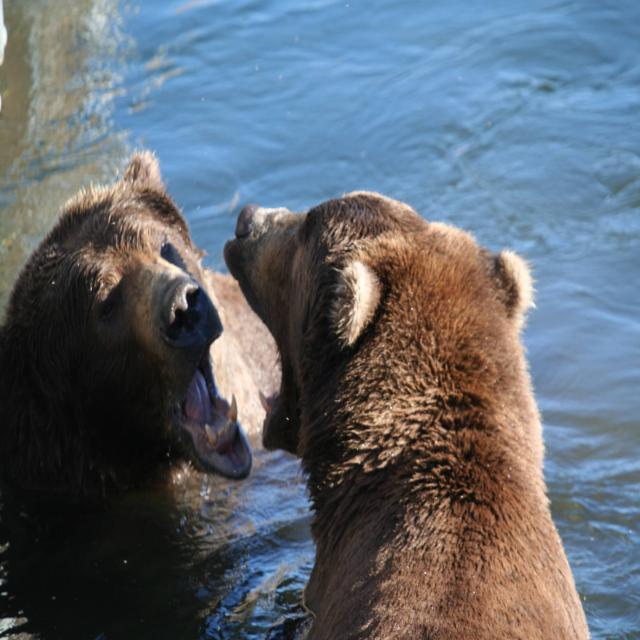bear face: (228, 195, 587, 640), (0, 151, 251, 484)
